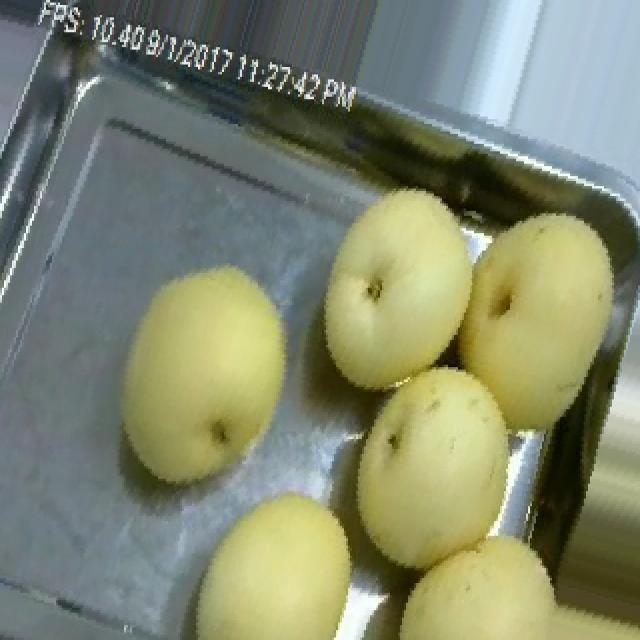Fruit: (310, 325, 562, 608), (74, 236, 328, 514), (434, 181, 640, 464), (286, 166, 504, 419), (162, 464, 388, 640)
